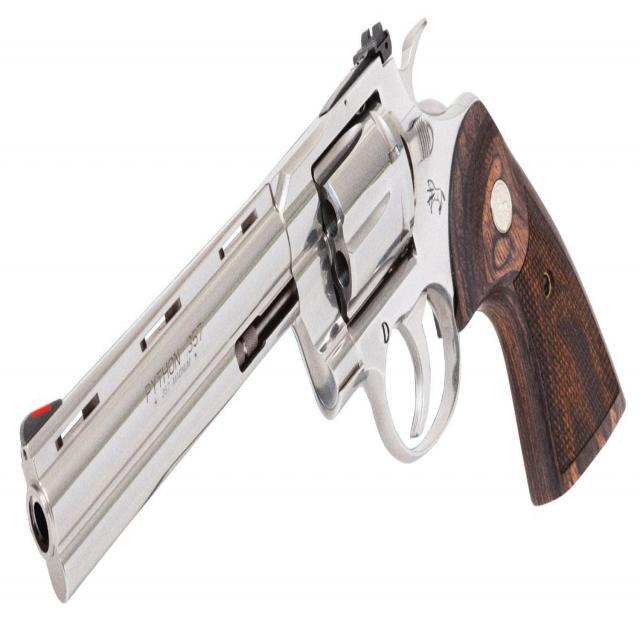handgun: (24, 16, 626, 610)
